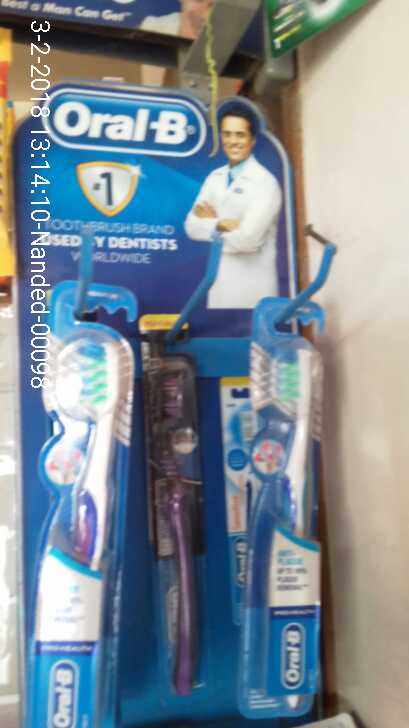oralb: (42, 330, 122, 728), (247, 320, 323, 697), (138, 350, 206, 700)
